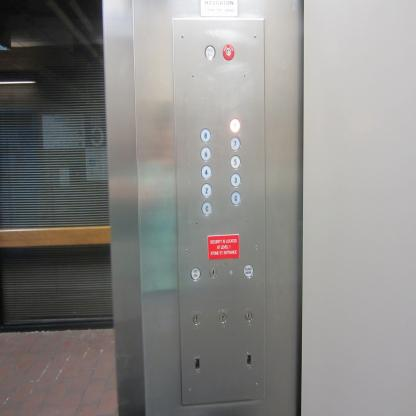2: (201, 183, 212, 198)
3: (230, 173, 241, 188)
4: (200, 164, 212, 180)
5: (230, 154, 240, 170)
6: (200, 146, 211, 162)
7: (230, 136, 240, 152)
8: (200, 128, 211, 144)
C: (201, 201, 212, 216)
G: (230, 190, 241, 206)
R: (229, 118, 241, 133)
keyhole: (222, 44, 234, 60), (218, 312, 227, 324), (244, 310, 253, 322), (209, 267, 217, 278), (192, 314, 200, 325)
text_close: (243, 264, 254, 278)
text_emerg call: (204, 45, 216, 60)
text_open hold: (190, 267, 201, 282)
